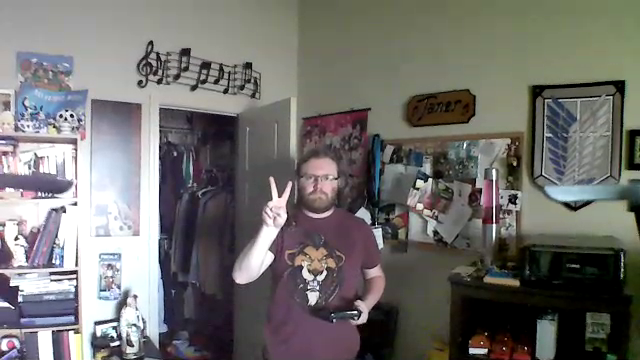peace: (260, 172, 294, 231)
